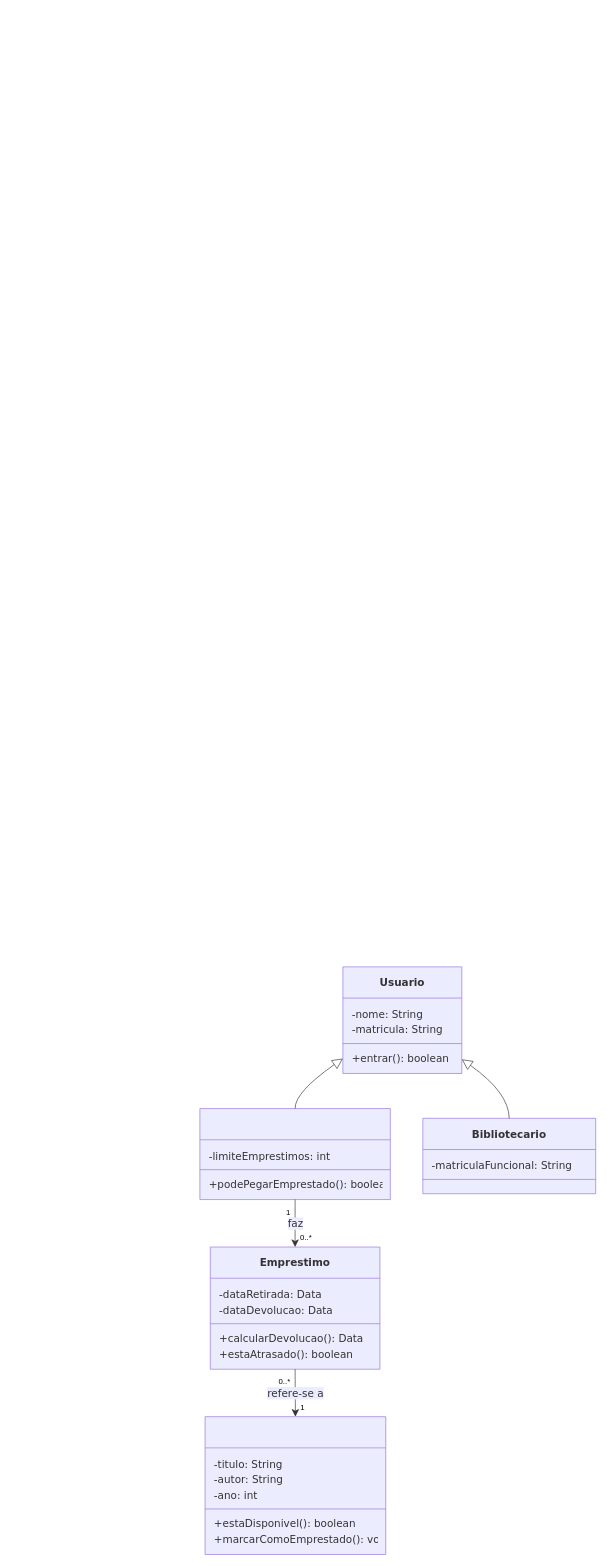
The diagram is 607 pixels wide and 1566 high, and some of its shapes have lost their labels. The box of each missing label's shape, as (x1, y1, x2, y2) in pixels:
Leitor: (199, 1108, 390, 1200)
Livro: (204, 1416, 386, 1554)
